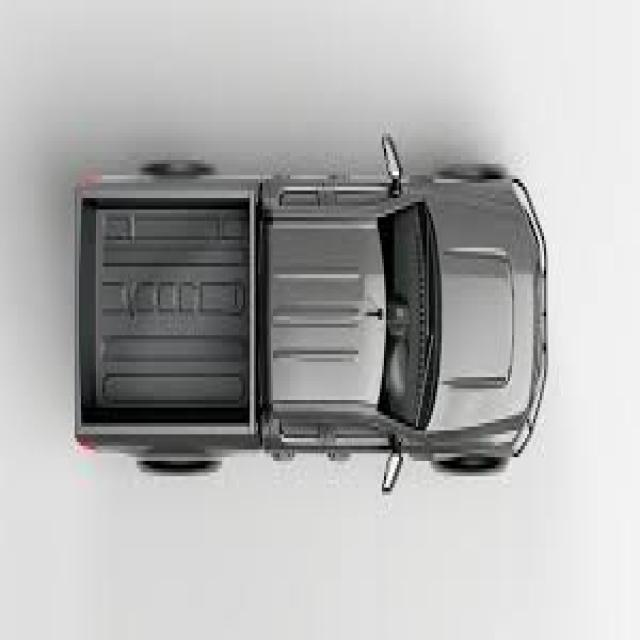truck: (74, 168, 544, 471)
